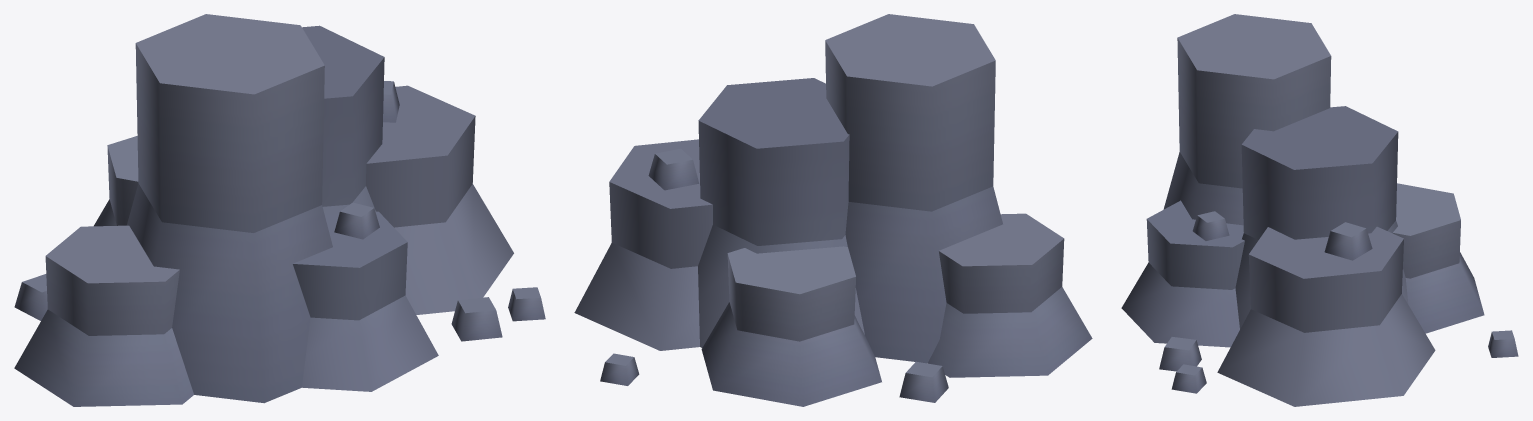
Rendered from kenney-pirate-rocks-a.glb.
3 renders of one model, left to right at view 1: azimuth 30°, elevation 25°; view 2: azimuth 150°, elevation 25°; view 3: azimuth 270°, elevation 25°, orthographic. The views are drawn at different scales.
Visible parts, largest first — view 1: rocks-a; view 2: rocks-a; view 3: rocks-a.
Boxes of the visible parts, x1=… form: rocks-a: x1=14, y1=14, x2=545, y2=406; rocks-a: x1=574, y1=14, x2=1092, y2=406; rocks-a: x1=1121, y1=14, x2=1518, y2=406.
Bounding box in the file's own units: 5.11 × 2.9 × 4.39.
Materials: 1 (1 with a texture image).
